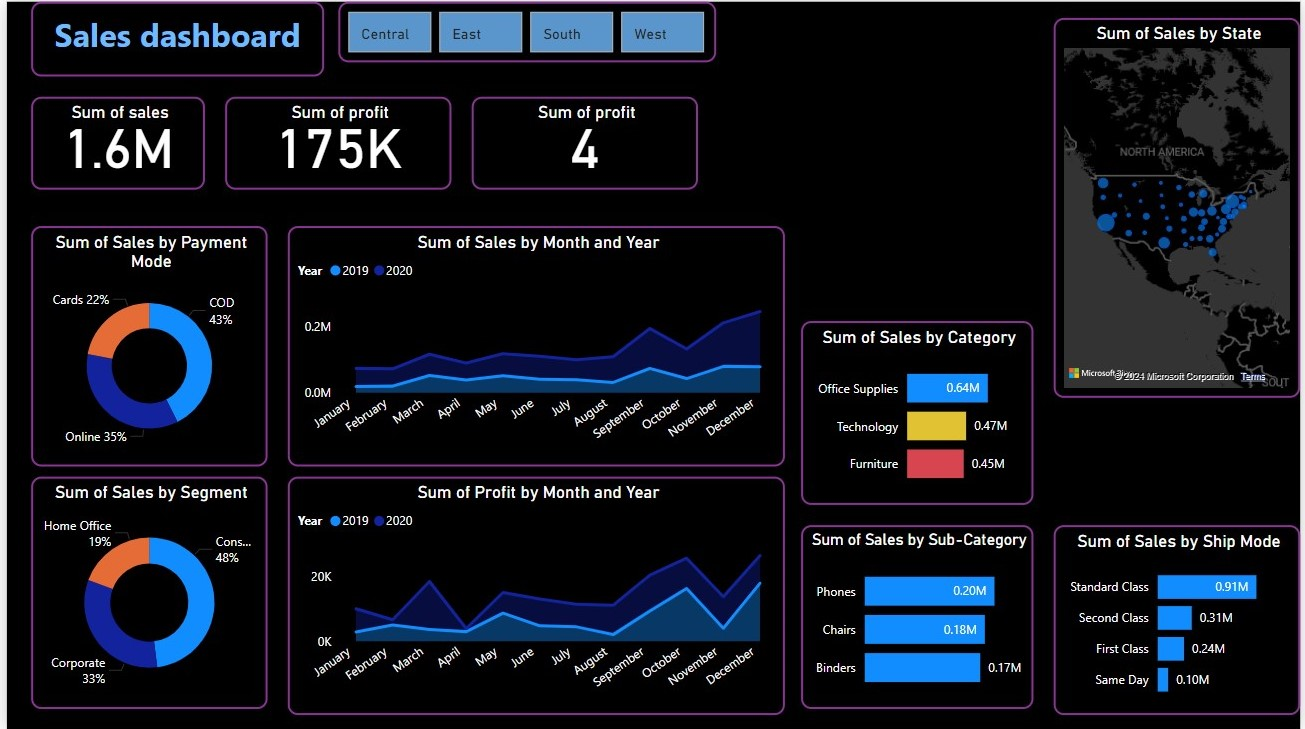

What the dashboard file says about the page in this screenshot:
{"tool":"powerbi","page":{"name":"Page 1","canvas":[1280,720],"ordinal":0},"visuals":[{"type":"clusteredBarChart","fields":{"Category":["Sheet1.Category"],"Y":["Sum(Sheet1.Sales)"]},"box":[786,316,230,182],"z":0},{"type":"clusteredBarChart","fields":{"Category":["Sheet1.Sub-Category"],"Y":["Sum(Sheet1.Sales)"]},"box":[786,518,230,182],"z":1000},{"type":"clusteredBarChart","fields":{"Category":["Sheet1.Ship Mode"],"Y":["Sum(Sheet1.Sales)"]},"box":[1036,518,244,188],"z":2000},{"type":"stackedAreaChart","fields":{"Series":["Sheet1.Order Date.Variation.Date Hierarchy.Year"],"Category":["Sheet1.Order Date.Variation.Date Hierarchy.Month","Sheet1.Order Date.Variation.Date Hierarchy.Day"],"Y":["Sum(Sheet1.Profit)"]},"box":[278,470,492,236],"z":3000},{"type":"map","fields":{"Category":["Sheet1.State"],"Size":["Sum(Sheet1.Sales)"]},"box":[1036,16,244,376],"z":4000},{"type":"donutChart","fields":{"Category":["Sheet1.Segment"],"Y":["Sum(Sheet1.Sales)"]},"box":[24,470,234,230],"z":5000},{"type":"stackedAreaChart","fields":{"Series":["Sheet1.Order Date.Variation.Date Hierarchy.Year"],"Category":["Sheet1.Order Date.Variation.Date Hierarchy.Month","Sheet1.Order Date.Variation.Date Hierarchy.Day"],"Y":["Sum(Sheet1.Sales)"]},"box":[278,222,492,238],"z":6000},{"type":"donutChart","fields":{"Category":["Sheet1.Payment Mode"],"Y":["Sum(Sheet1.Sales)"]},"box":[24,222,234,238],"z":7000},{"type":"advancedSlicerVisual","fields":{"Values":["Sheet1.Region"]},"box":[328,0,374,60],"z":7001},{"type":"textbox","title":"sd","box":[24,0,290,74],"z":7002},{"type":"card","title":"Sum of sales","fields":{"Values":["Sum(Sheet1.Sales)"]},"box":[24,94,172,92],"z":7003},{"type":"card","title":"Sum of profit","fields":{"Values":["Sum(Sheet1.Profit)"]},"box":[216,94,224,92],"z":7004},{"type":"card","title":"Sum of profit","fields":{"Values":["Avg(Sheet1.AvgDelivery)"]},"box":[460,94,224,92],"z":7005}]}

Visuals, with their boxes in screenshot pixels (x1, y1, x2, y2), scaled from the page's 1280x720 canvas onto the 1305x729 screenshot:
clusteredBarChart - Sheet1.Category x Sum(Sheet1.Sales): locate(801, 320, 1036, 504)
clusteredBarChart - Sheet1.Sub-Category x Sum(Sheet1.Sales): locate(801, 524, 1036, 709)
clusteredBarChart - Sheet1.Ship Mode x Sum(Sheet1.Sales): locate(1056, 524, 1304, 715)
stackedAreaChart - Sheet1.Order Date.Variation.Date Hierarchy.Year x Sheet1.Order Date.Variation.Date Hierarchy.Month: locate(283, 476, 785, 715)
map - Sheet1.State x Sum(Sheet1.Sales): locate(1056, 16, 1304, 397)
donutChart - Sheet1.Segment x Sum(Sheet1.Sales): locate(24, 476, 263, 709)
stackedAreaChart - Sheet1.Order Date.Variation.Date Hierarchy.Year x Sheet1.Order Date.Variation.Date Hierarchy.Month: locate(283, 225, 785, 466)
donutChart - Sheet1.Payment Mode x Sum(Sheet1.Sales): locate(24, 225, 263, 466)
advancedSlicerVisual - Sheet1.Region: locate(334, 0, 716, 61)
"sd" textbox: locate(24, 0, 320, 75)
"Sum of sales" card: locate(24, 95, 200, 188)
"Sum of profit" card: locate(220, 95, 449, 188)
"Sum of profit" card: locate(469, 95, 697, 188)
